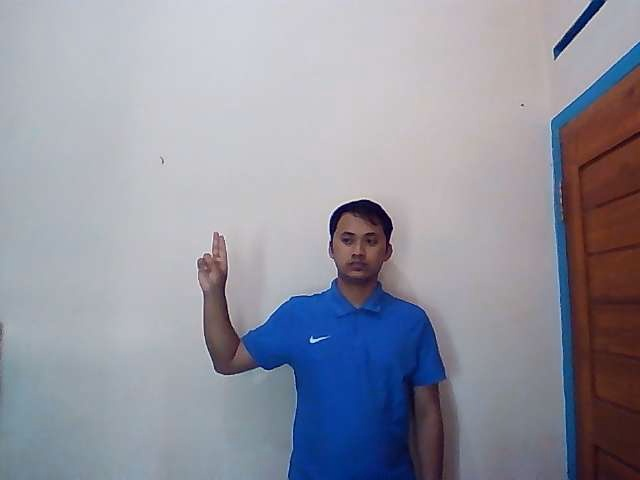U: (197, 231, 230, 289)
